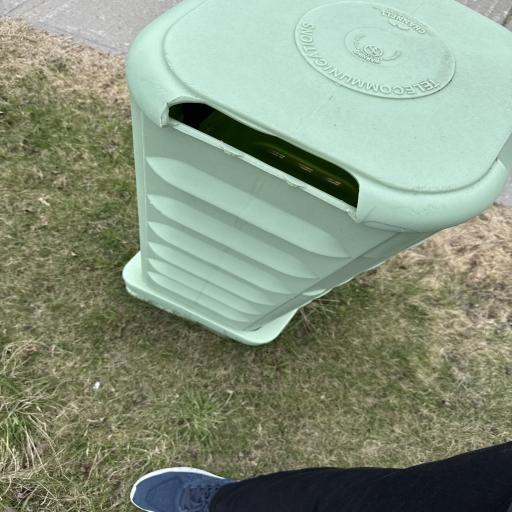Electrical Box: (122, 2, 512, 344)
